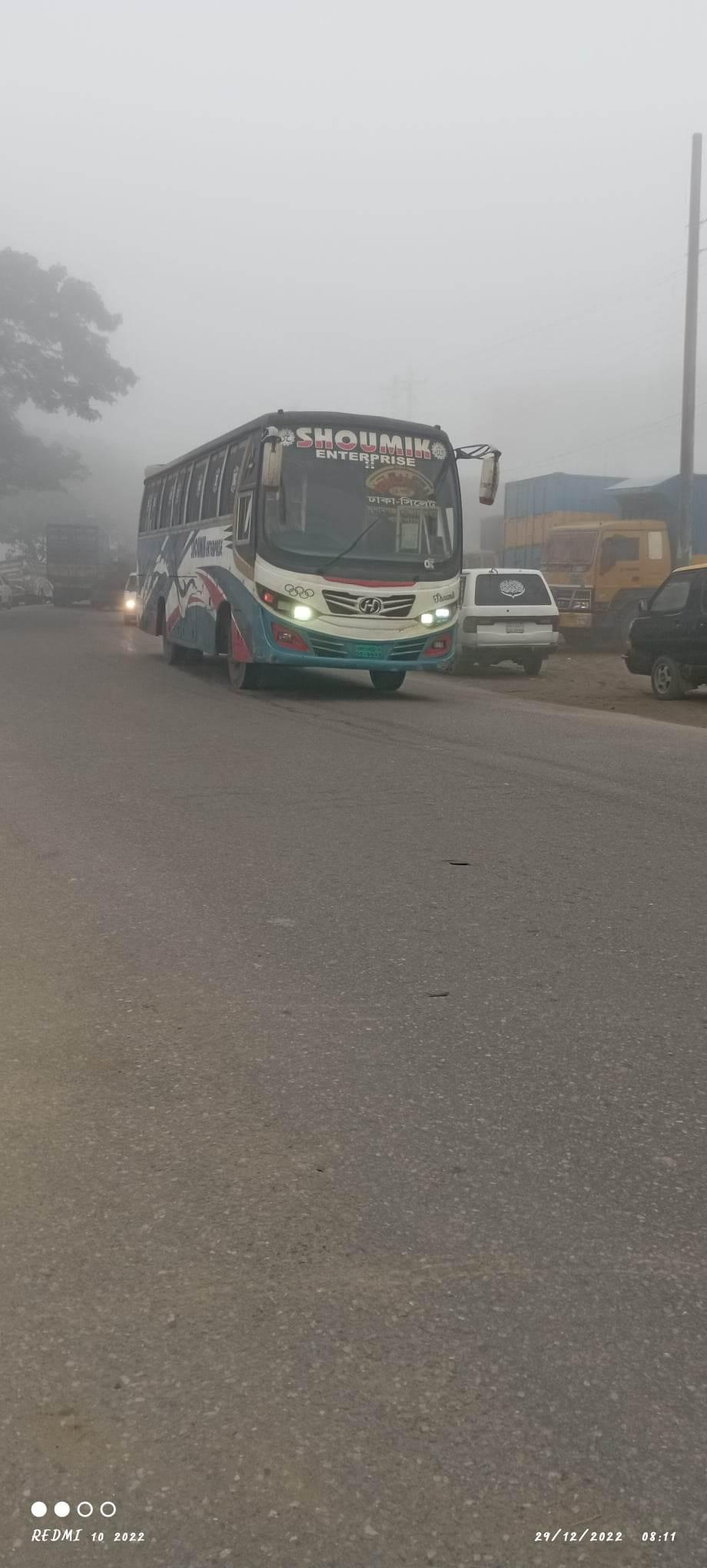Bus: (122, 393, 518, 713)
Car: (621, 530, 707, 725)
